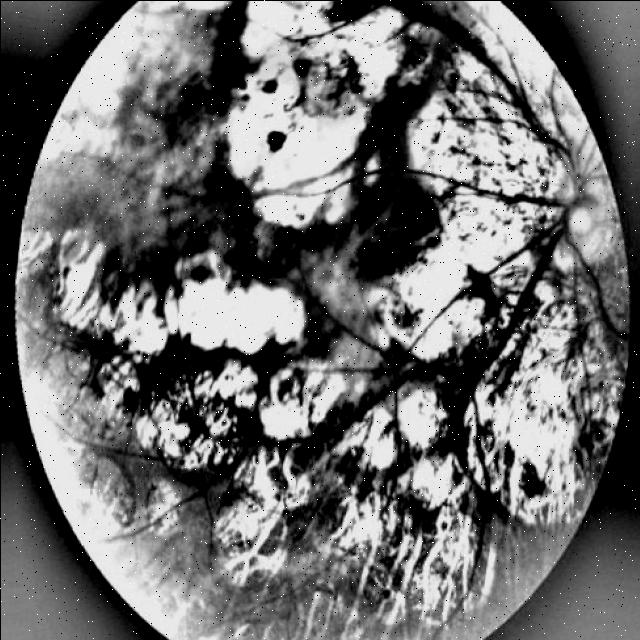Nerves: (236, 0, 624, 506)
Optic Disk: (557, 130, 618, 266)
